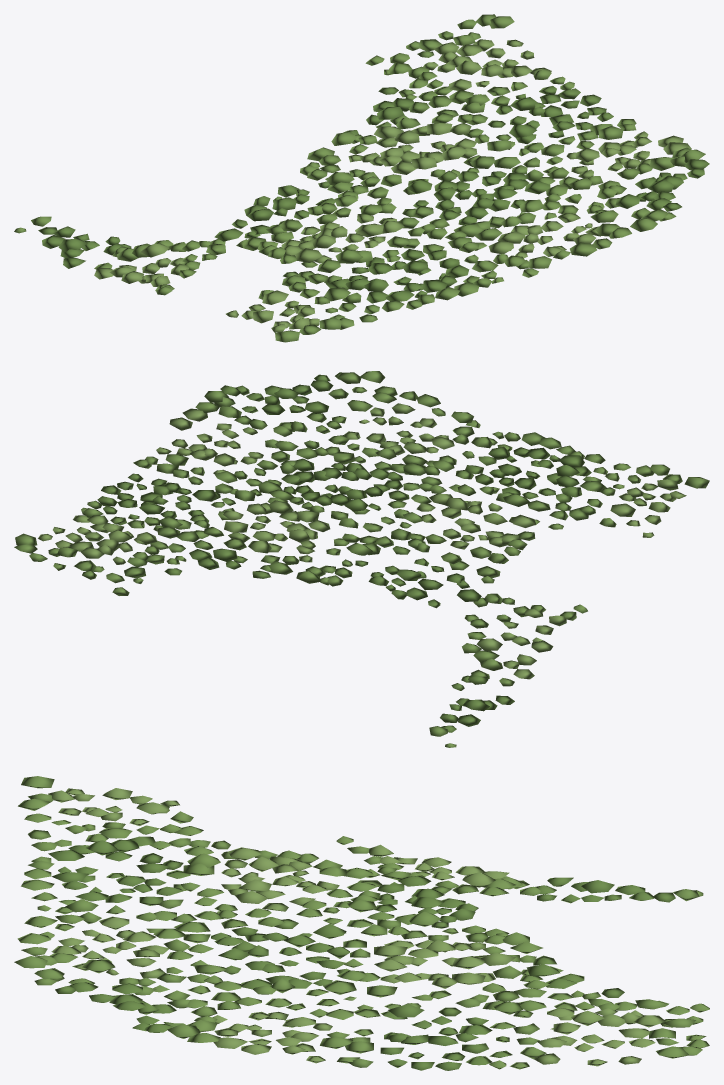
The model's file is canopy-1--4-2.glb.
3 renders of one model, top to bottom at view 1: azimuth 30°, elevation 25°; view 2: azimuth 150°, elevation 25°; view 3: azimuth 270°, elevation 25°, orthographic. The views are drawn at different scales.
Bounding box in the file's own units: 518 × 125 × 512.
1 material, 1 textured.
